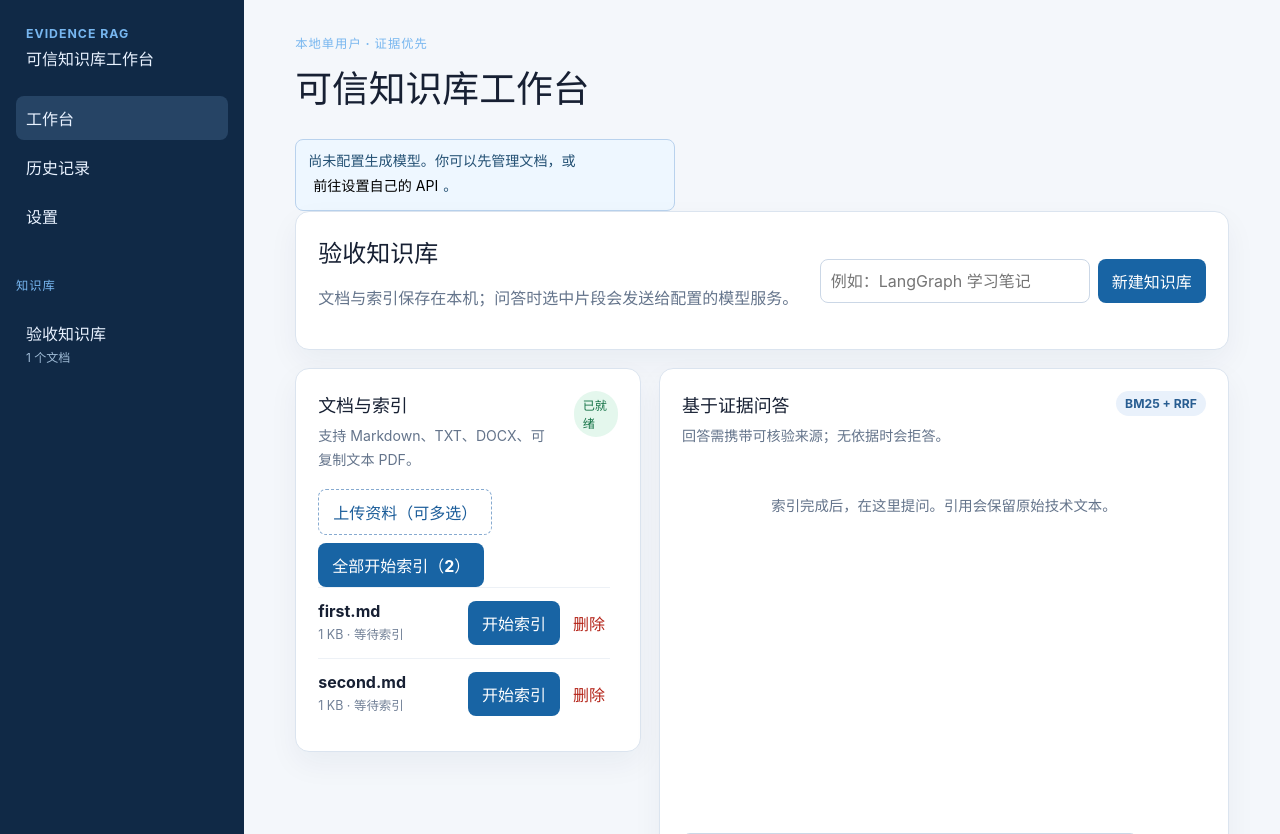
Scenario: App › shows document-level progress while a batch index request is still running
Click the button "全部开始索引（2）". click: (401, 565)
box: [318,543,484,587]
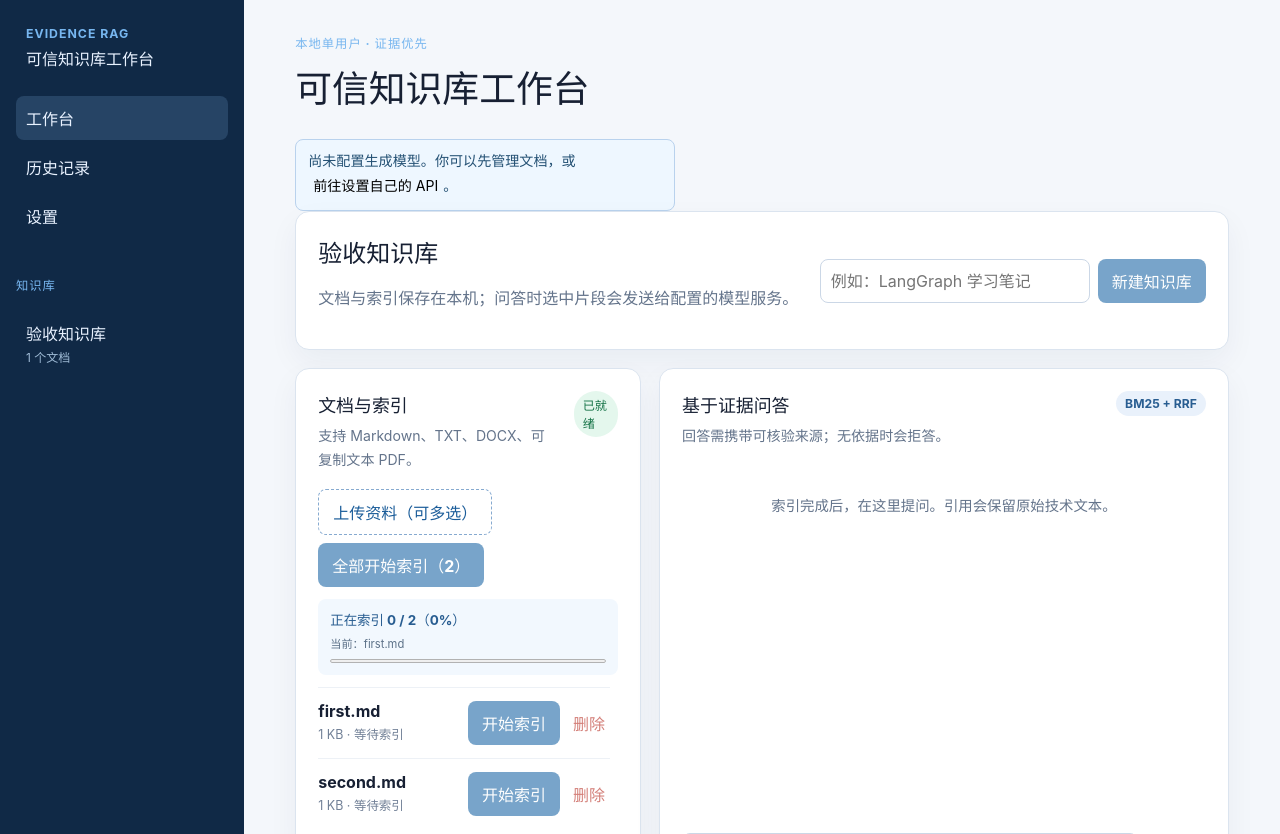
Now the text "正在索引 0 / 2（0%）" is shown, box [330,612,466,628]
Now the text "当前：first.md" is shown, box [330,637,404,651]
Now the progress indicator named "索引进度" holds "0", box [330,657,606,665]
